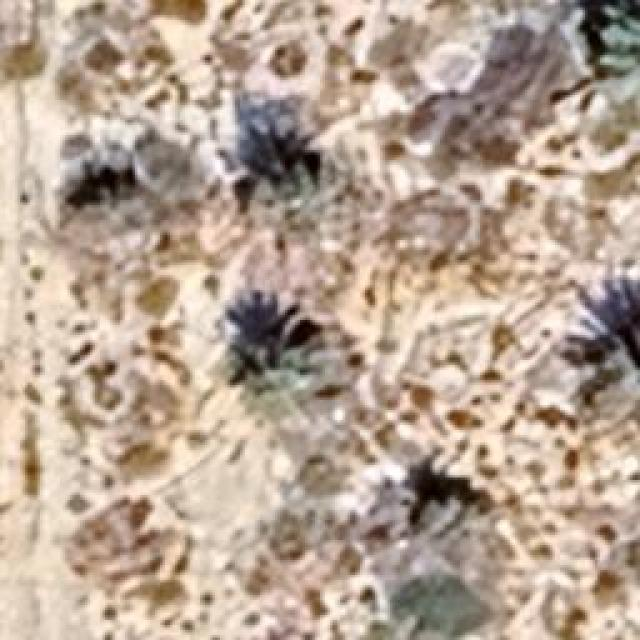PalmTree: (245, 124, 348, 234), (577, 279, 640, 432), (240, 295, 320, 400), (65, 154, 153, 224), (400, 487, 498, 545), (600, 12, 638, 98)
